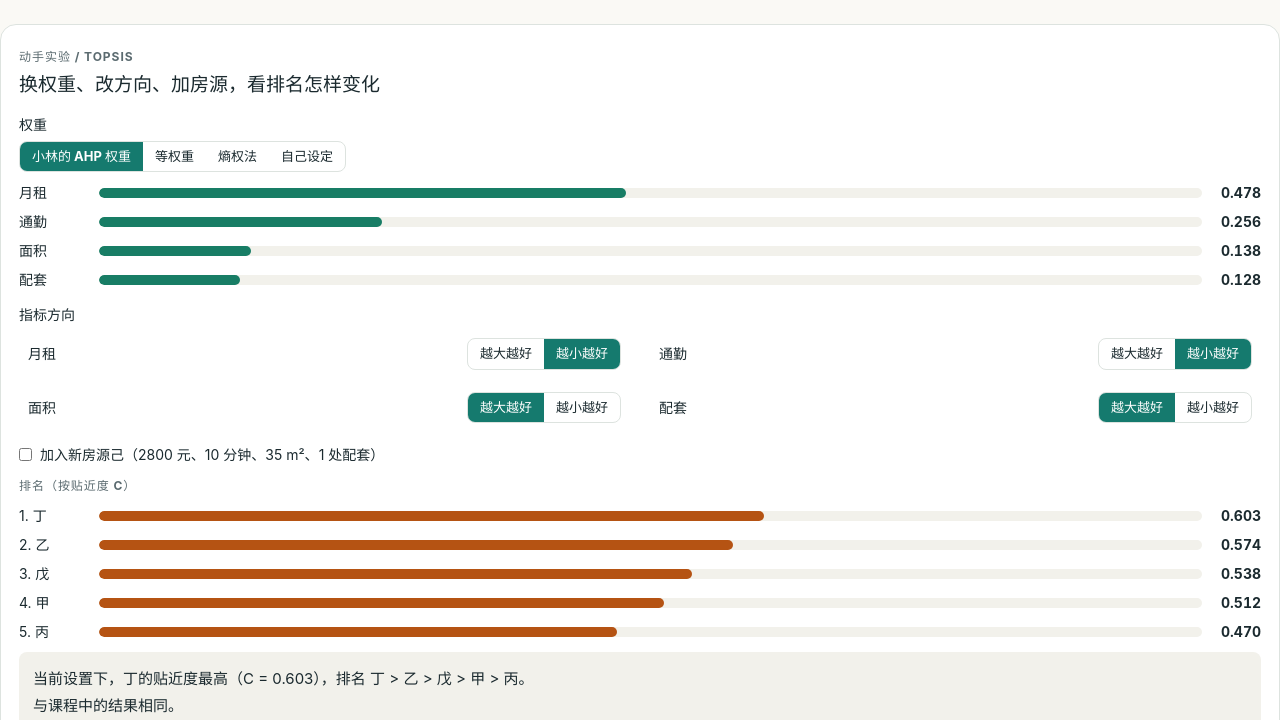
it: TOPSIS 排名实验 › switches to equal and entropy weights and reports the new winner
Click the button "等权重".
click(174, 156)  # box [143,142,206,171]
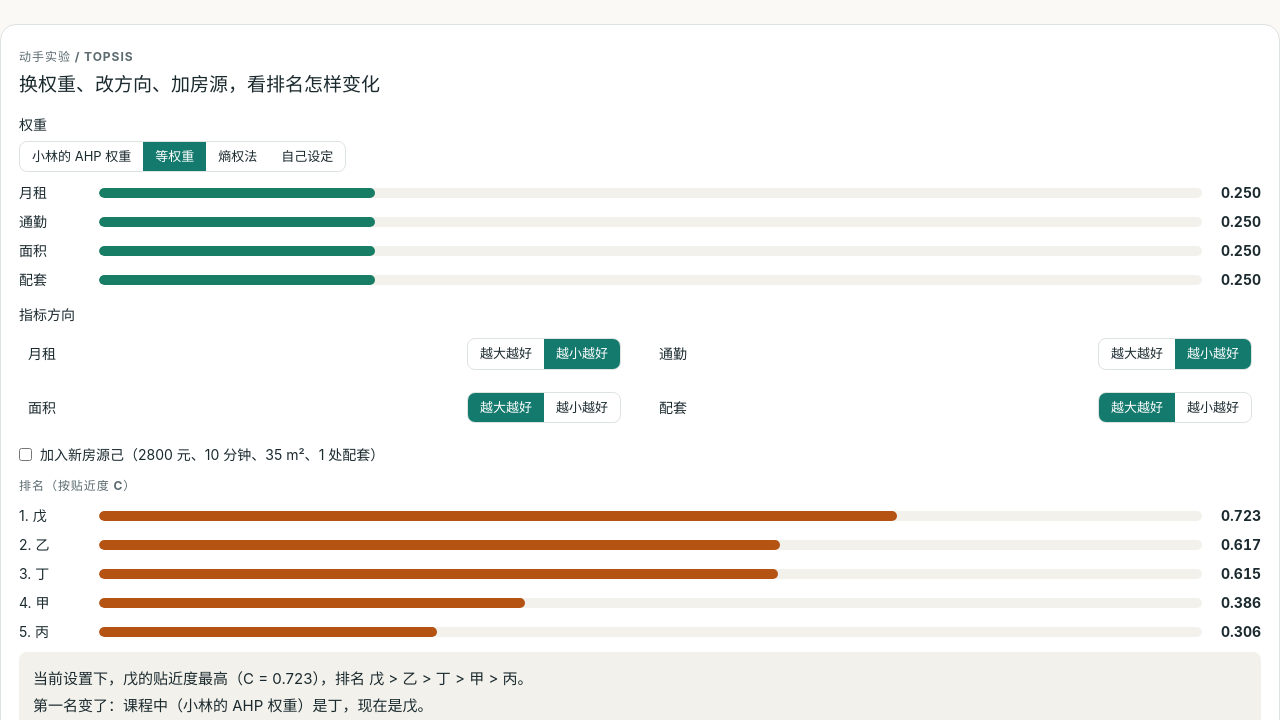
Expected: the text "第一名变了：课程中（小林的 AHP 权重）是丁，现在是戊" is shown, [33,696,432,714]
Click the button "熵权法".
click(238, 156)  # box [206,142,269,171]
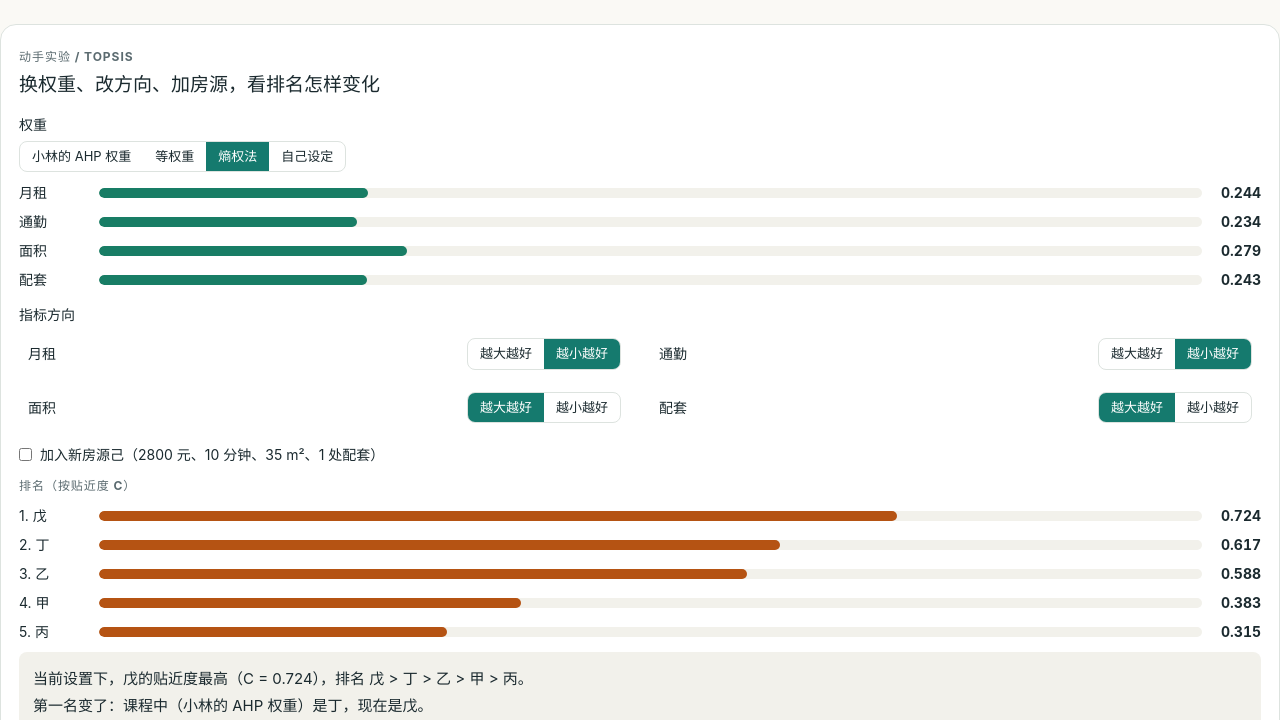
Expected: the list item "月租 0.244" is shown, [19,182,1261,203]
Expected: the list item "通勤 0.234" is shown, [19,211,1261,232]
Expected: the list item "面积 0.279" is shown, [19,240,1261,261]
